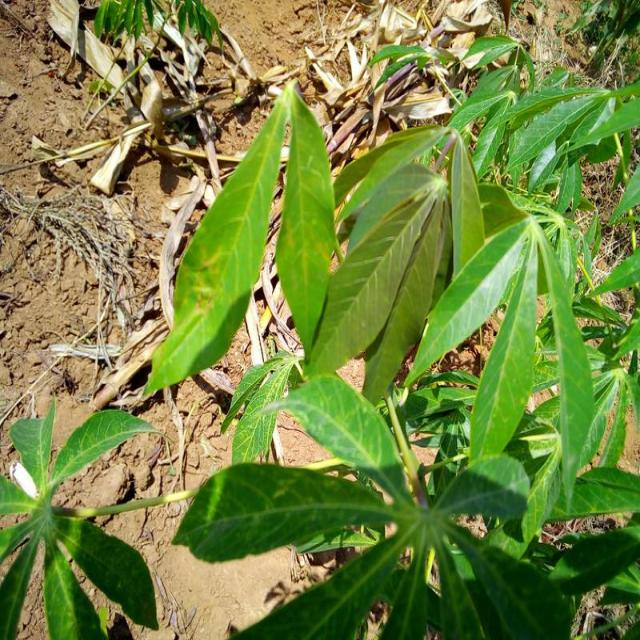cassava leaf: (140, 80, 292, 400), (274, 80, 337, 362)
